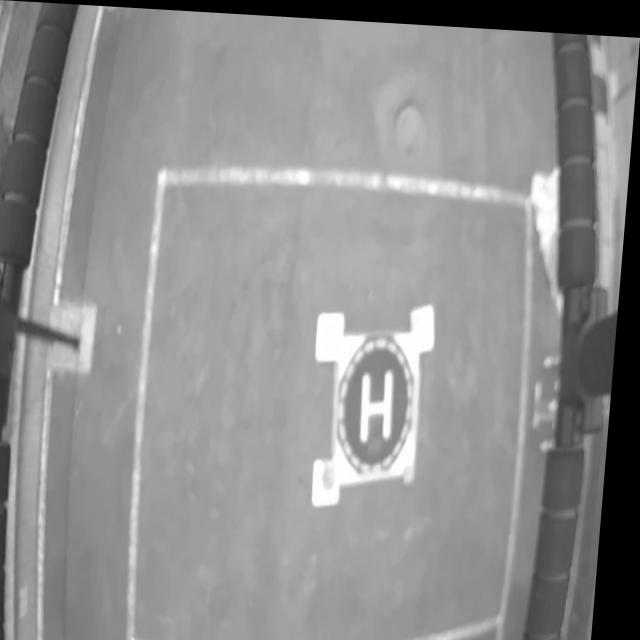Helipad: (367, 366, 400, 439)
